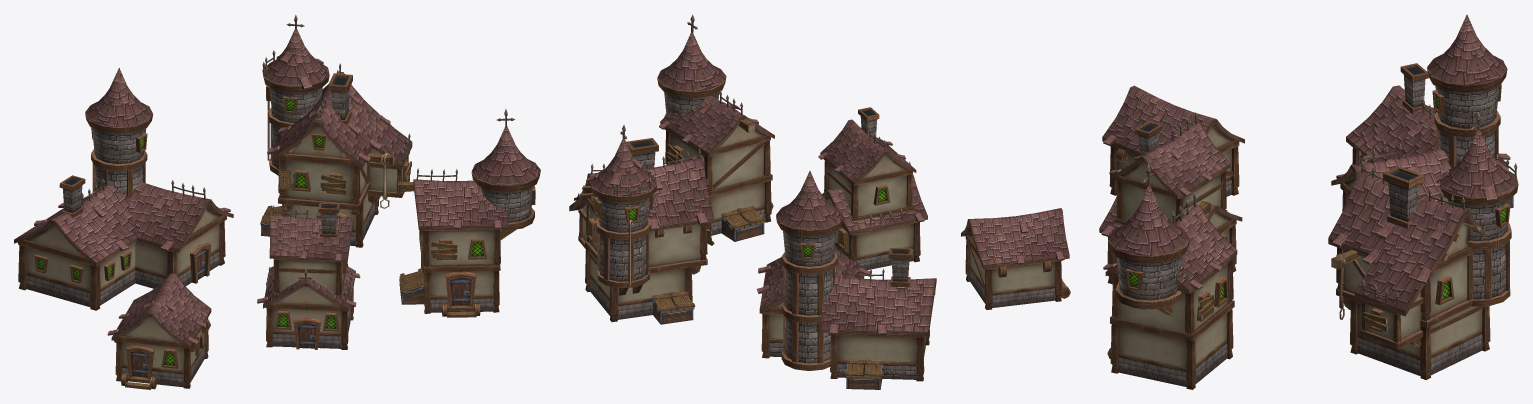
The model's file is medieval_houses.glb.
The picture shows the model from 3 angles, left to right: view 1: azimuth 30°, elevation 25°; view 2: azimuth 150°, elevation 25°; view 3: azimuth 270°, elevation 25°; orthographic projection. The views are drawn at different scales.
Parts seen in each view (by area): view 1: haunted_house_027; view 2: haunted_house_027; view 3: haunted_house_027.
Boxes of the visible parts, bbox=[...] form: haunted_house_027: bbox=[14, 14, 540, 389]; haunted_house_027: bbox=[569, 14, 1070, 389]; haunted_house_027: bbox=[1099, 14, 1518, 389].
Size of the model in its own units: 43.78 by 19.94 by 32.28.
Materials: 3 (3 with a texture image).
